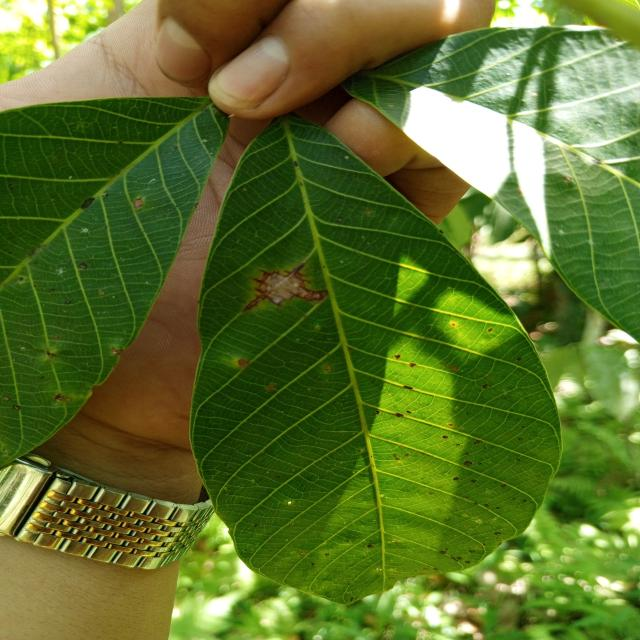Colletotrichum: (464, 461, 472, 466), (474, 440, 482, 444), (65, 300, 71, 305), (470, 479, 477, 483), (442, 435, 448, 439), (500, 484, 506, 488), (453, 477, 459, 481), (478, 462, 482, 466), (484, 504, 489, 507), (518, 438, 523, 440), (495, 507, 500, 509)
Corynespora: (242, 264, 329, 312)
Leaf-Blight: (265, 274, 307, 303)
